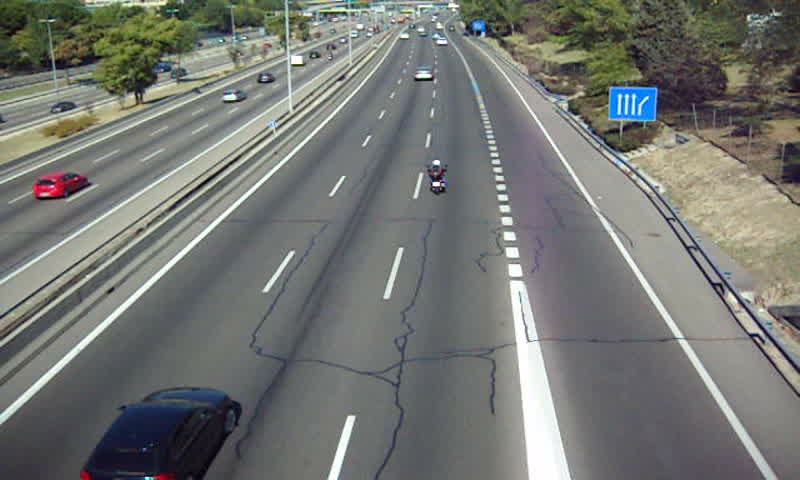car: (80, 389, 235, 480), (412, 68, 433, 84)
motorcycle: (424, 159, 448, 196)
